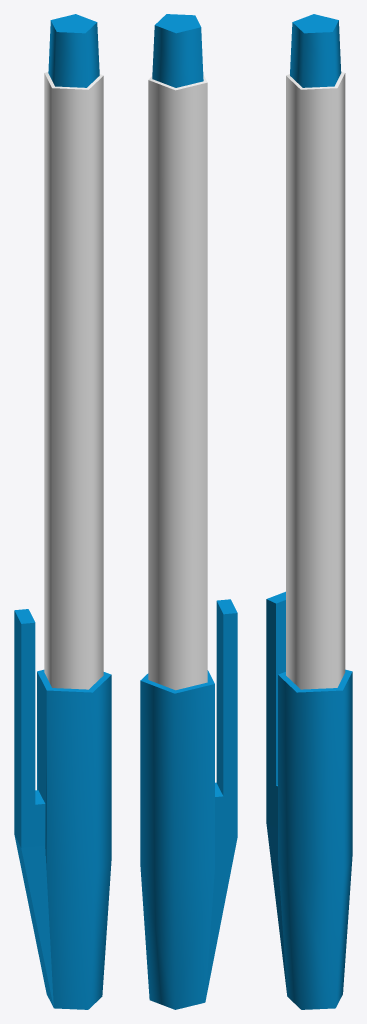
The model's file is Pen.glb.
The picture shows the model from 3 angles, left to right: view 1: azimuth 30°, elevation 25°; view 2: azimuth 210°, elevation 25°; view 3: azimuth 330°, elevation 25°; orthographic projection.
Visible parts, largest first — view 1: pCylinder11; view 2: pCylinder11; view 3: pCylinder11.
Boxes of the visible parts, box(x1,y1,x2,y2) form: pCylinder11: box(14, 14, 111, 1009); pCylinder11: box(140, 14, 237, 1009); pCylinder11: box(266, 14, 352, 1009).
Size of the model in its own units: 21.83 by 244 by 16.46.
